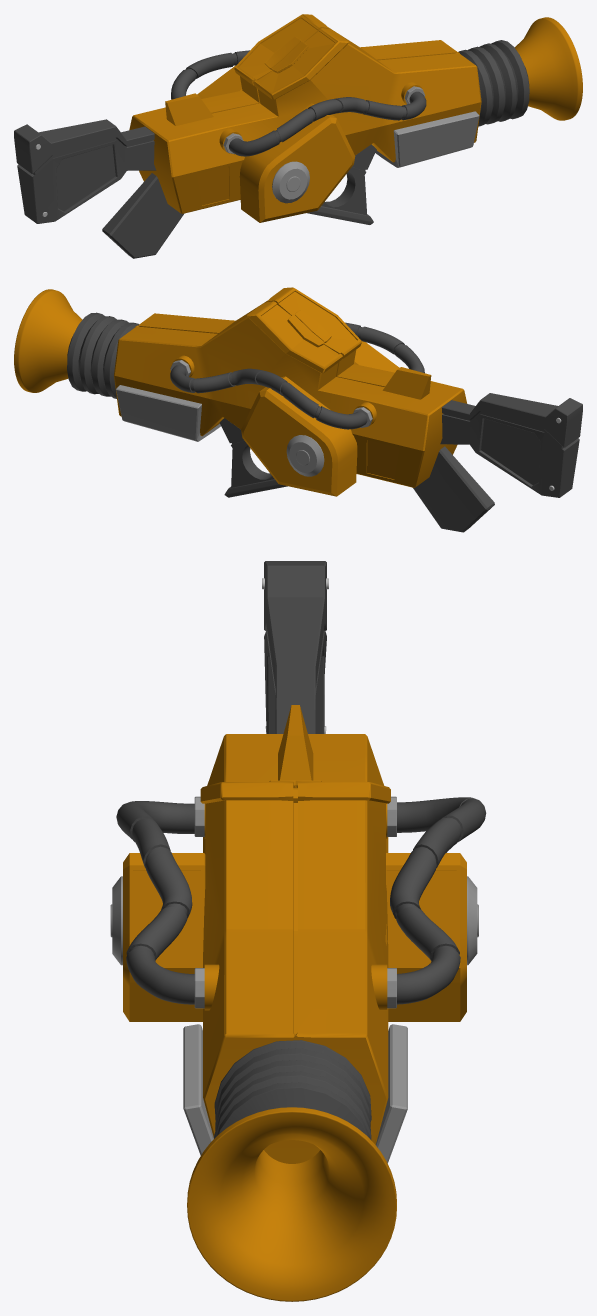
Rendered from Rejoicing_Riffle2.fbx.
3 views of the same model, one above another, from view 1: azimuth 30°, elevation 25°; view 2: azimuth 150°, elevation 25°; view 3: azimuth 270°, elevation 25° (orthographic). The views are drawn at different scales.
Parts seen in each view (by area): view 1: polySurface2, pCube8, pCube7, pCylinder18, pCylinder1, pCube9, sweep2, polySurface3, polySurface1, sweep3, pCylinder4, pCube10; view 2: polySurface2, pCube8, pCube10, pCylinder18, pCylinder1, pCube9, sweep3, polySurface3, polySurface1, pCylinder16, sweep2, pCube7; view 3: polySurface2, pCylinder18, pCube8, pCylinder1, sweep3, sweep2, pCube7, pCube10, polySurface3, pCylinder4.
Boxes of the visible parts, x1,y1,x2,y2 form: polySurface2: [129, 14, 481, 213]; pCube8: [14, 119, 156, 223]; pCube7: [239, 103, 355, 222]; pCylinder18: [514, 17, 582, 120]; pCylinder1: [458, 40, 529, 126]; pCube9: [102, 173, 183, 258]; sweep2: [229, 91, 426, 156]; polySurface3: [375, 111, 479, 167]; polySurface1: [307, 144, 376, 224]; sweep3: [171, 50, 249, 99]; pCylinder4: [272, 161, 309, 203]; pCube10: [197, 65, 242, 98]; polySurface2: [114, 287, 467, 487]; pCube8: [440, 393, 582, 497]; pCube10: [241, 376, 357, 496]; pCylinder18: [14, 289, 82, 392]; pCylinder1: [67, 312, 139, 398]; pCube9: [413, 446, 494, 532]; sweep3: [170, 365, 367, 429]; polySurface3: [116, 385, 220, 441]; polySurface1: [219, 418, 287, 497]; pCylinder16: [286, 435, 324, 476]; sweep2: [345, 322, 424, 373]; pCube7: [354, 341, 399, 372]; polySurface2: [200, 705, 390, 1163]; pCylinder18: [187, 1107, 396, 1301]; pCube8: [264, 561, 326, 733]; pCylinder1: [214, 1040, 371, 1140]; sweep3: [390, 797, 486, 1004]; sweep2: [116, 801, 194, 1004]; pCube7: [123, 853, 205, 1021]; pCube10: [385, 853, 466, 1021]; polySurface3: [183, 1024, 407, 1163]; pCylinder4: [110, 876, 122, 965].
Bounding box in the file's own units: 2.83 × 1.03 × 0.8616.
